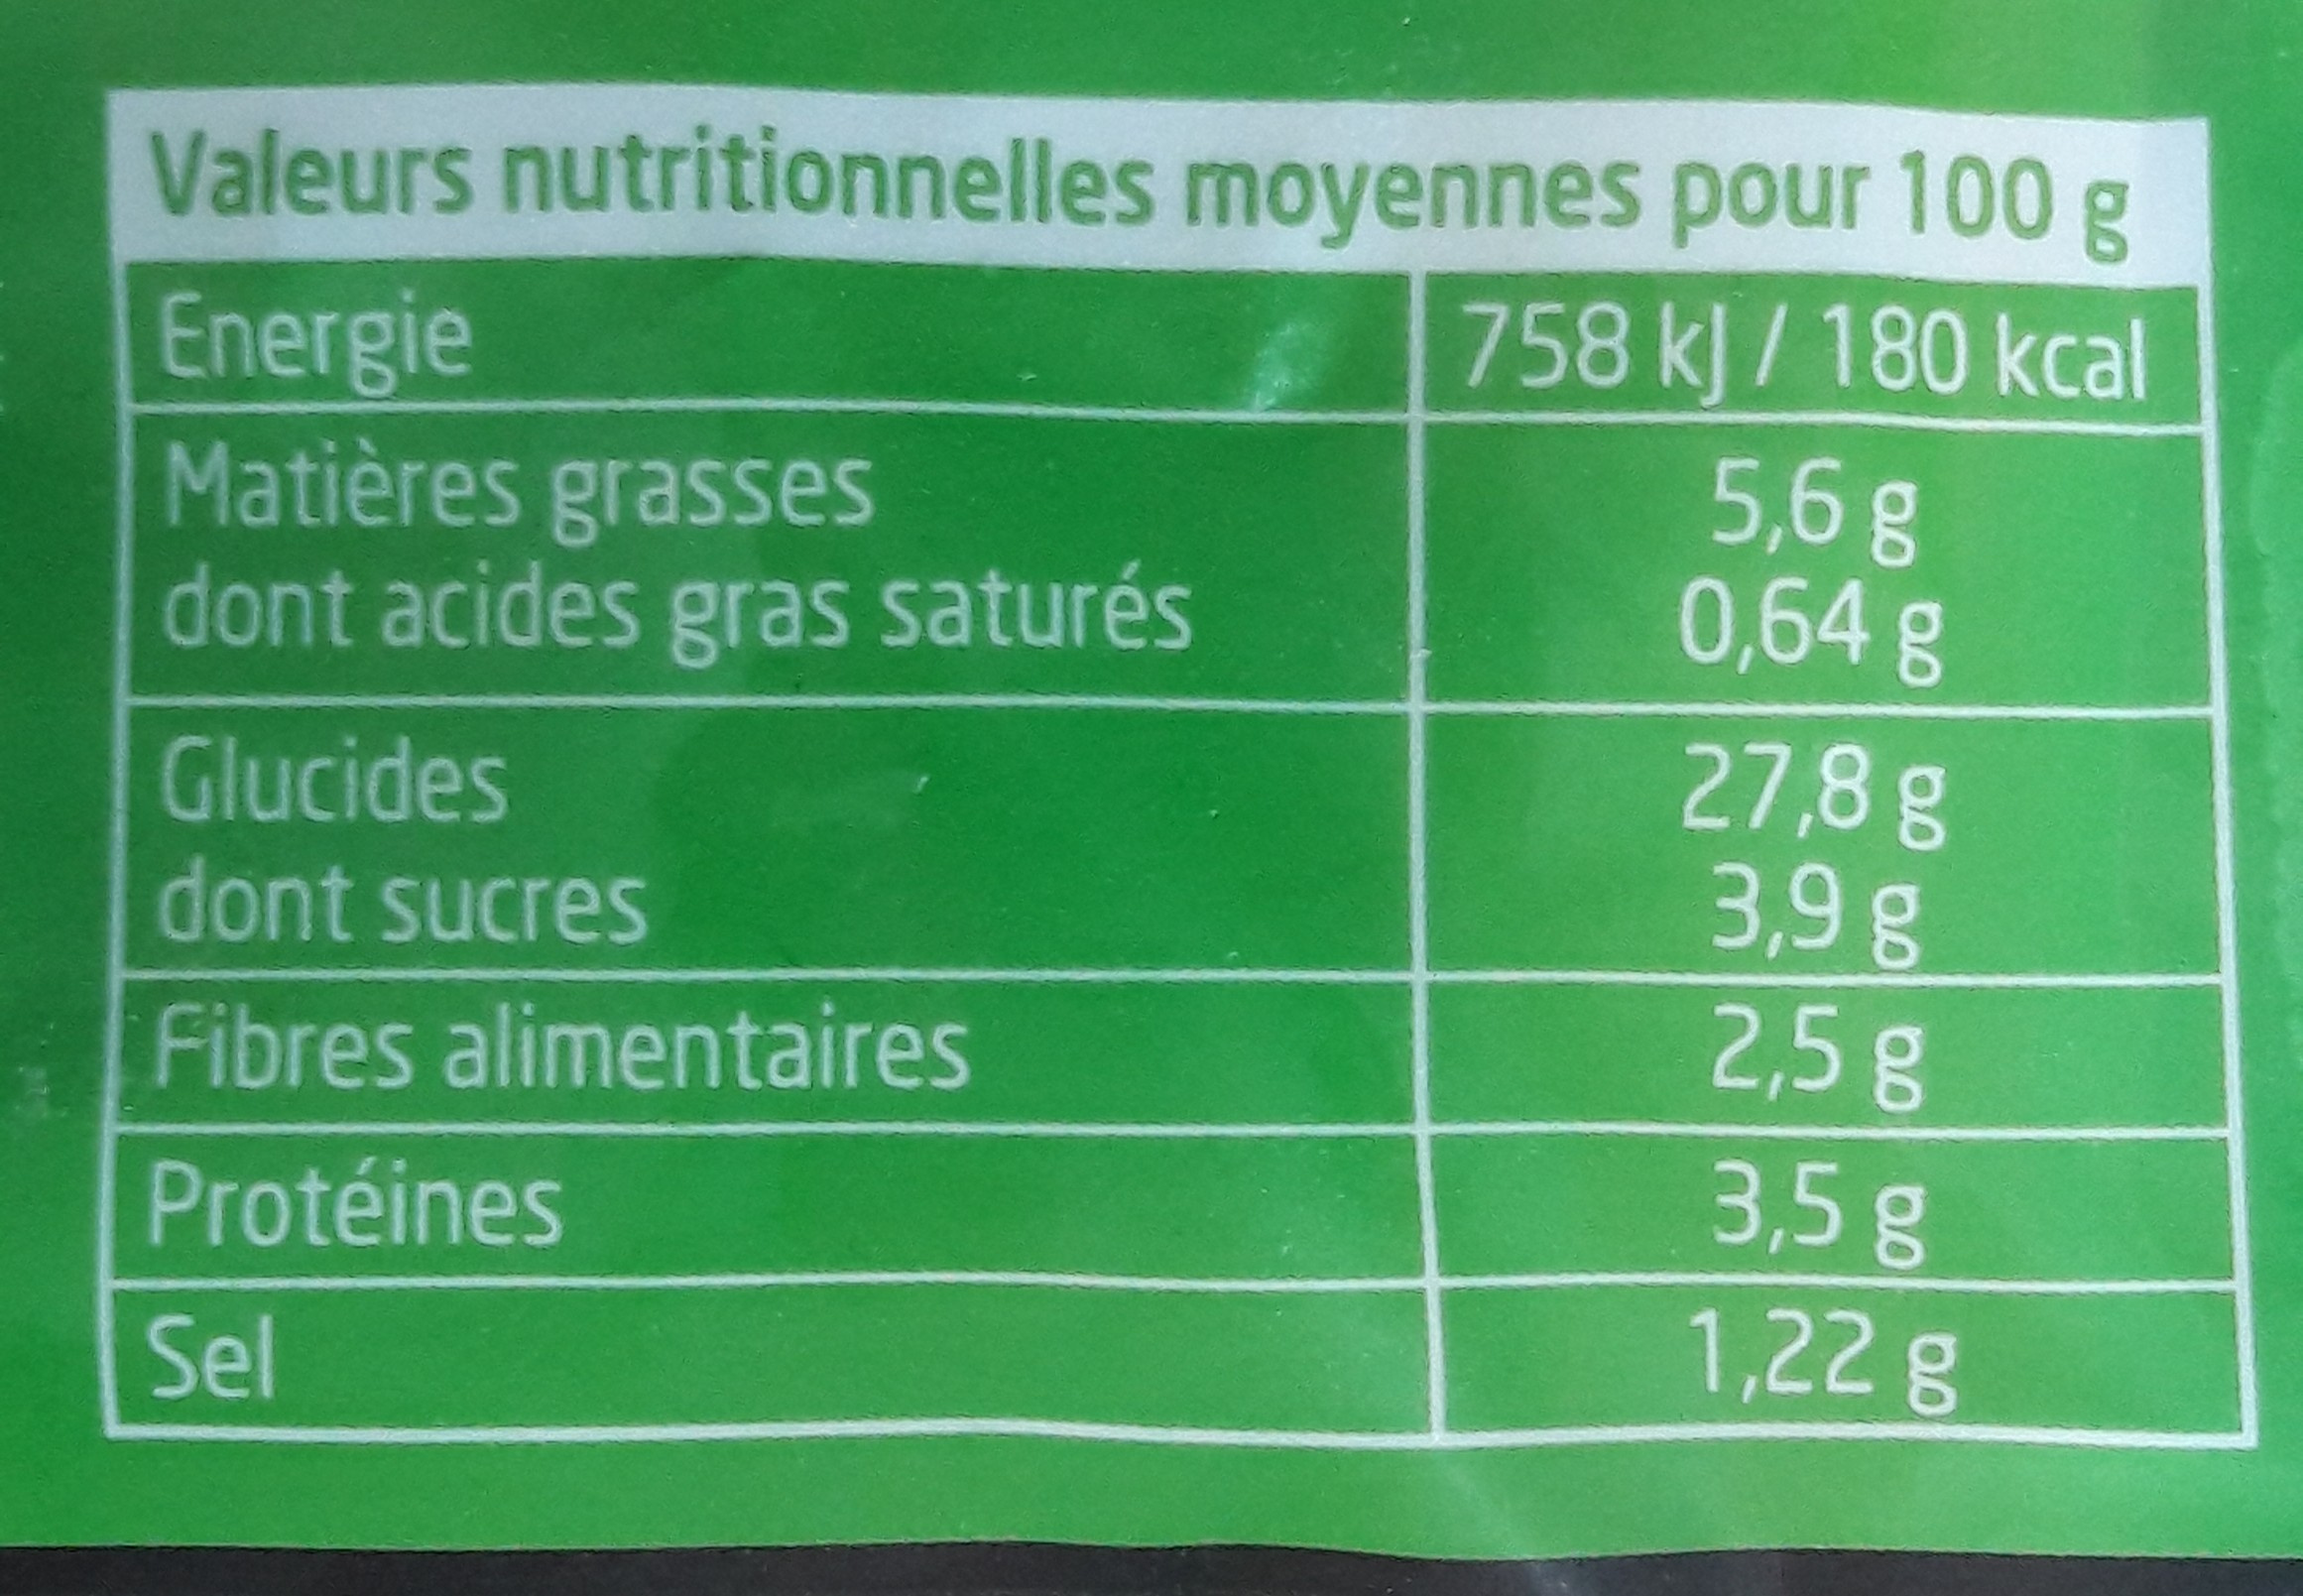column: (145, 285, 1199, 1417), (1452, 294, 2149, 1416)
table: (93, 70, 2278, 1465)
